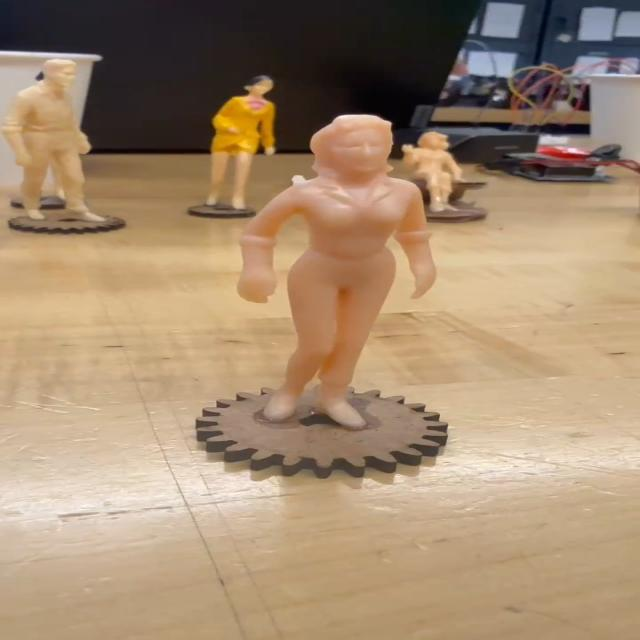Unauthorized: (230, 113, 444, 431)
